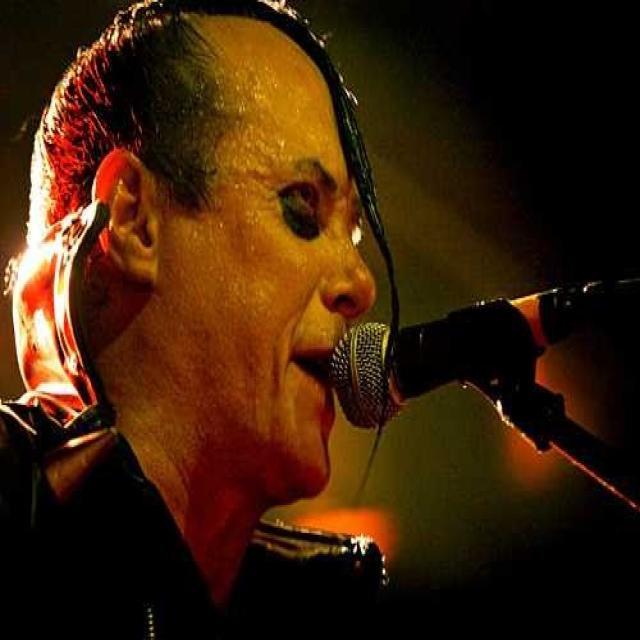microphone: (333, 274, 634, 428)
